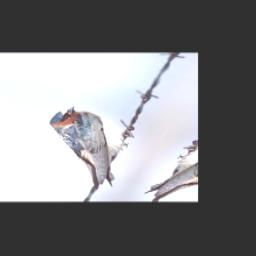Swallow: (16, 104, 155, 193)
